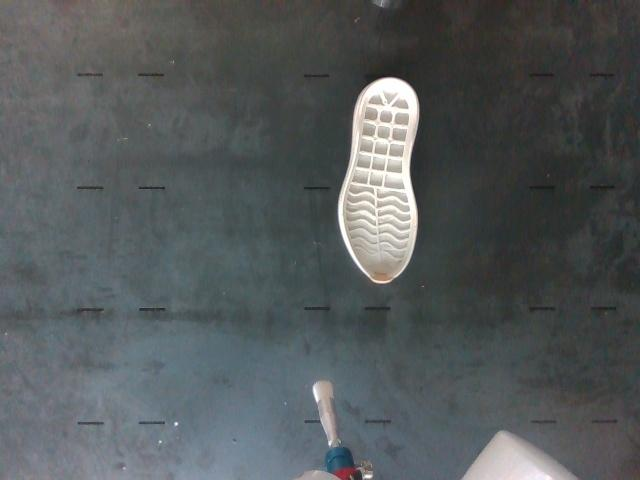shoes: (343, 79, 417, 282)
